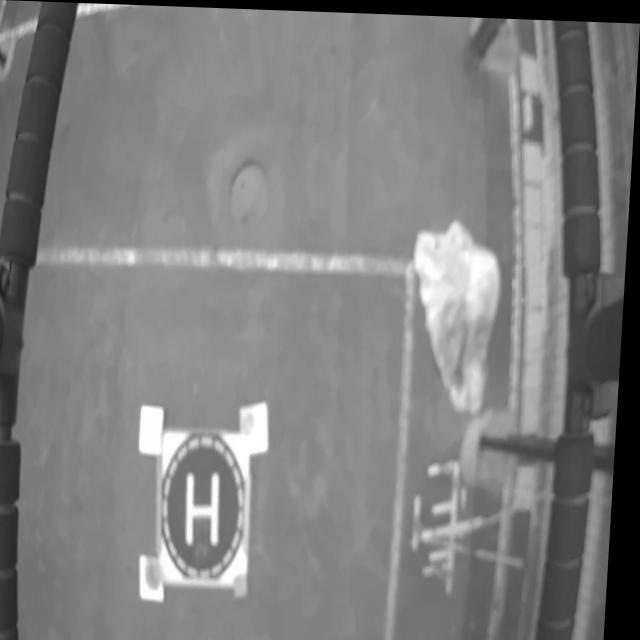Helipad: (192, 468, 227, 546)
